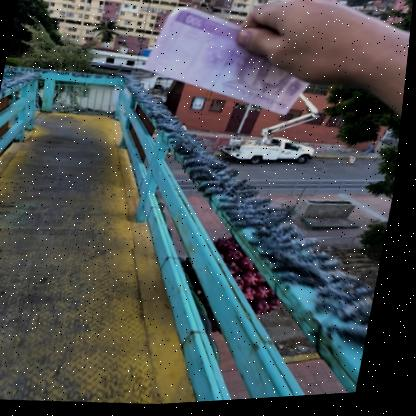one_hundred-back-vef: (134, 0, 325, 129)
